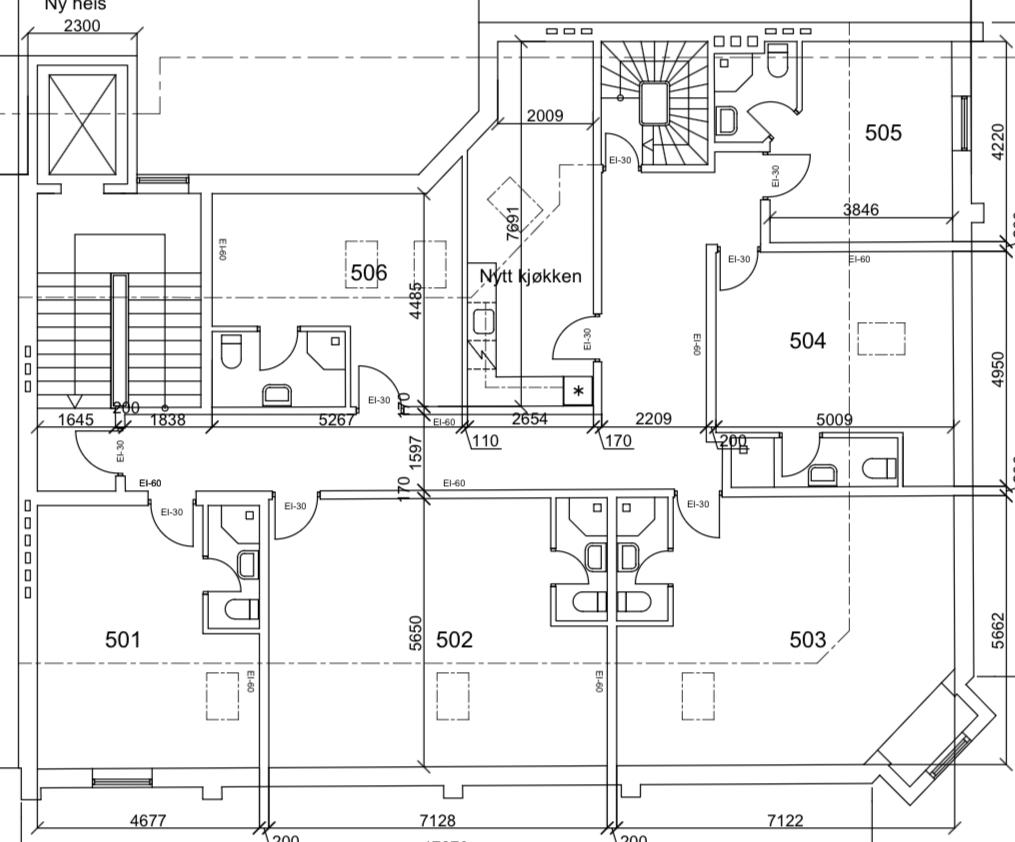room: (611, 492, 963, 778), (262, 494, 612, 778), (30, 498, 264, 779), (709, 244, 963, 486), (710, 32, 961, 245), (463, 30, 599, 418), (206, 190, 427, 419)
